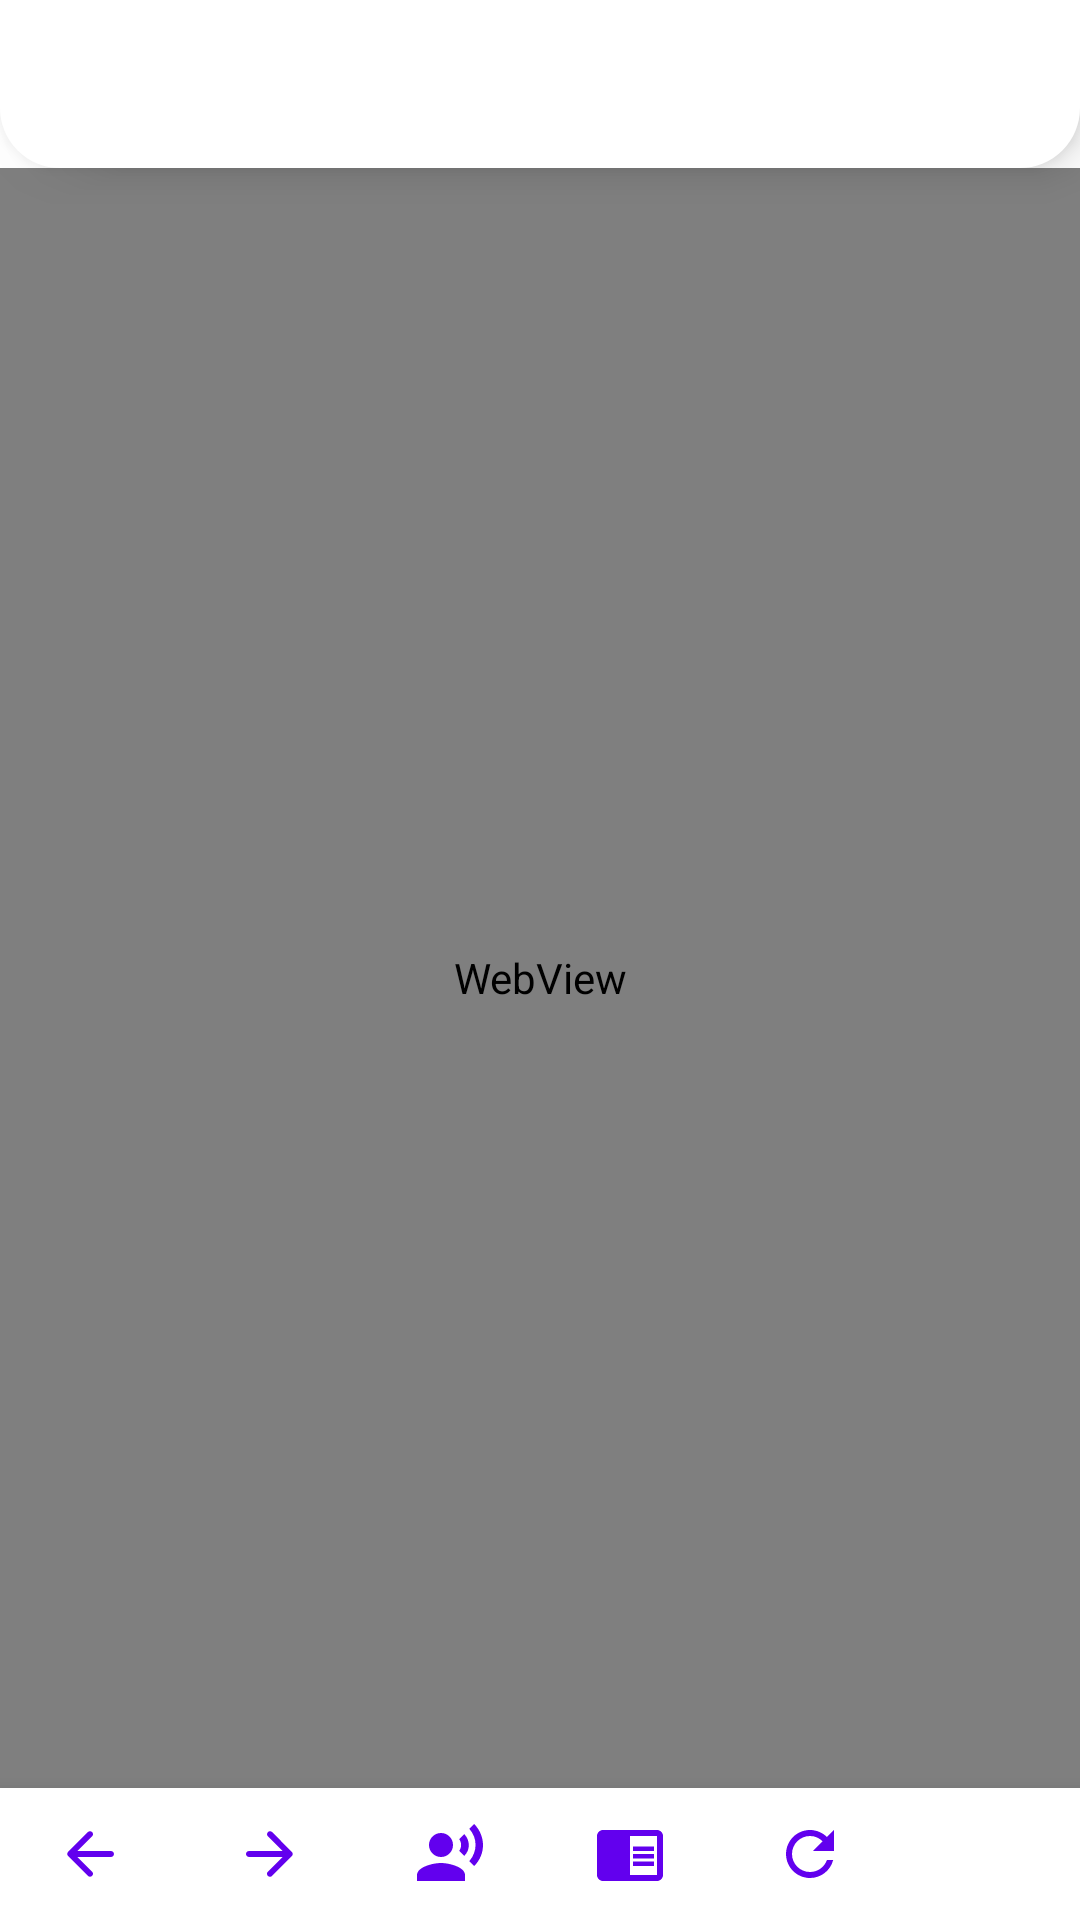

Locate icon controls on the screen. Image size 1080*1920, boxes as (x1, y1, x2, y2).
arrow forward: (246, 1831, 293, 1877)
back: (67, 1831, 114, 1877)
chrome reader mode: (597, 1830, 663, 1881)
record voice over: (417, 1824, 483, 1881)
refresh: (786, 1830, 834, 1878)
